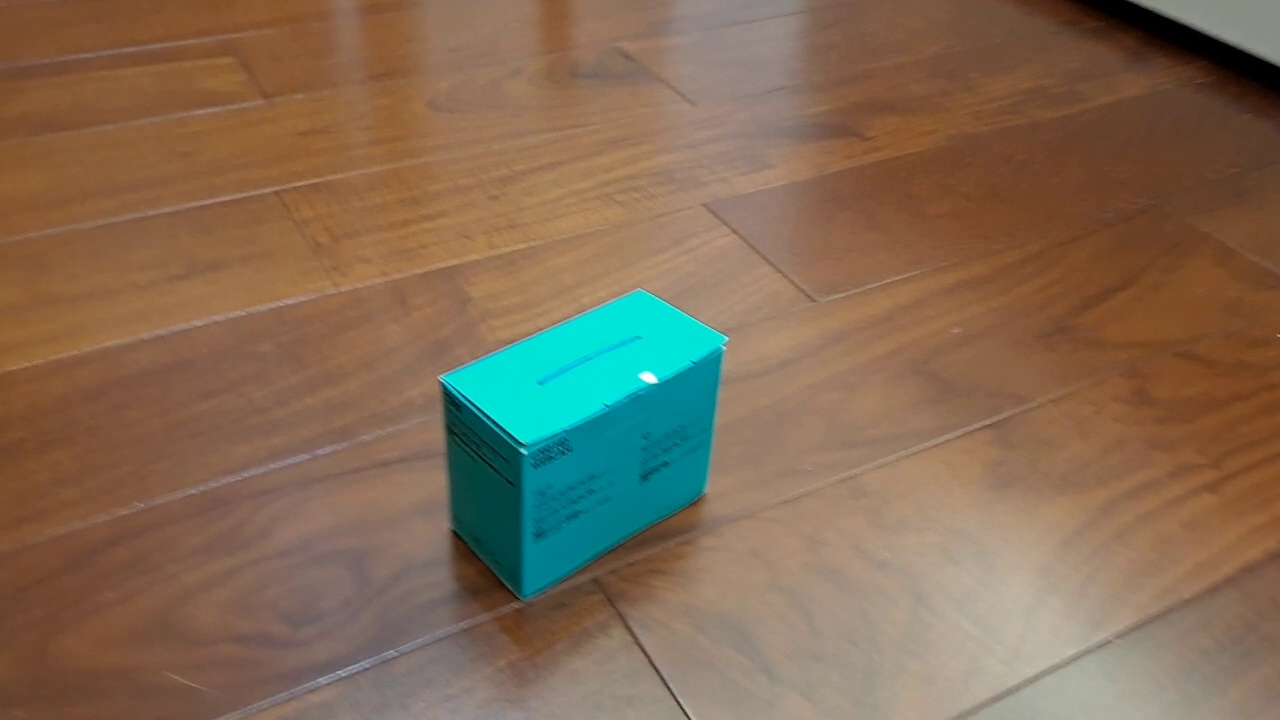webcam: (436, 286, 730, 603)
